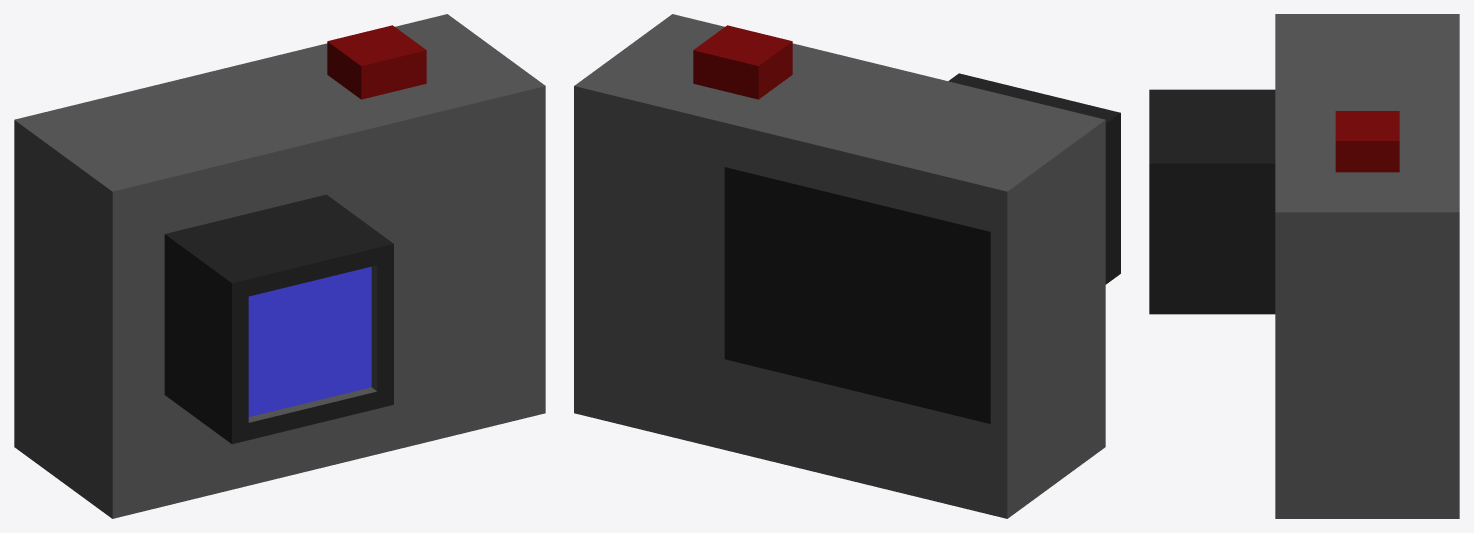
Rendered from Camera.fbx.
3 views of the same model, side by side, from view 1: azimuth 30°, elevation 25°; view 2: azimuth 150°, elevation 25°; view 3: azimuth 270°, elevation 25° (orthographic). The views are drawn at different scales.
Parts seen in each view (by area): view 1: Camera; view 2: Camera; view 3: Camera.
Boxes of the visible parts, x1,y1,x2,y2 form: Camera: (14, 14, 545, 518); Camera: (574, 14, 1120, 518); Camera: (1149, 14, 1459, 518).
Size of the model in its own units: 0.2102 by 0.1672 by 0.1392.
